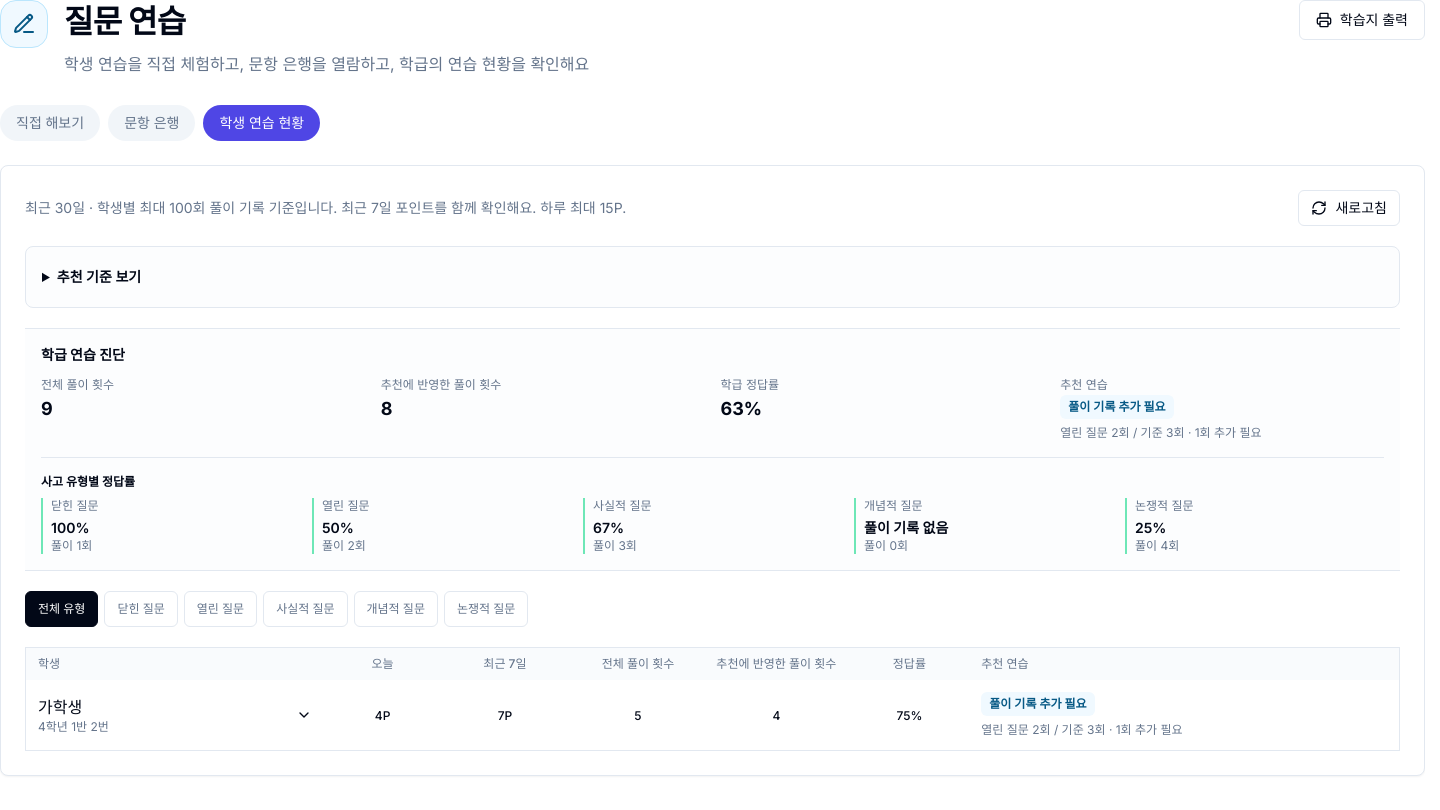
교사 학급 연습 진단 › 학생 모드별 진단에서 시도 수와 포인트 성공 횟수를 따로 보여 준다
Click the button "가학생 4학년 1반 2번" at (60, 707), box [38, 693, 312, 737]
(page scrolled)
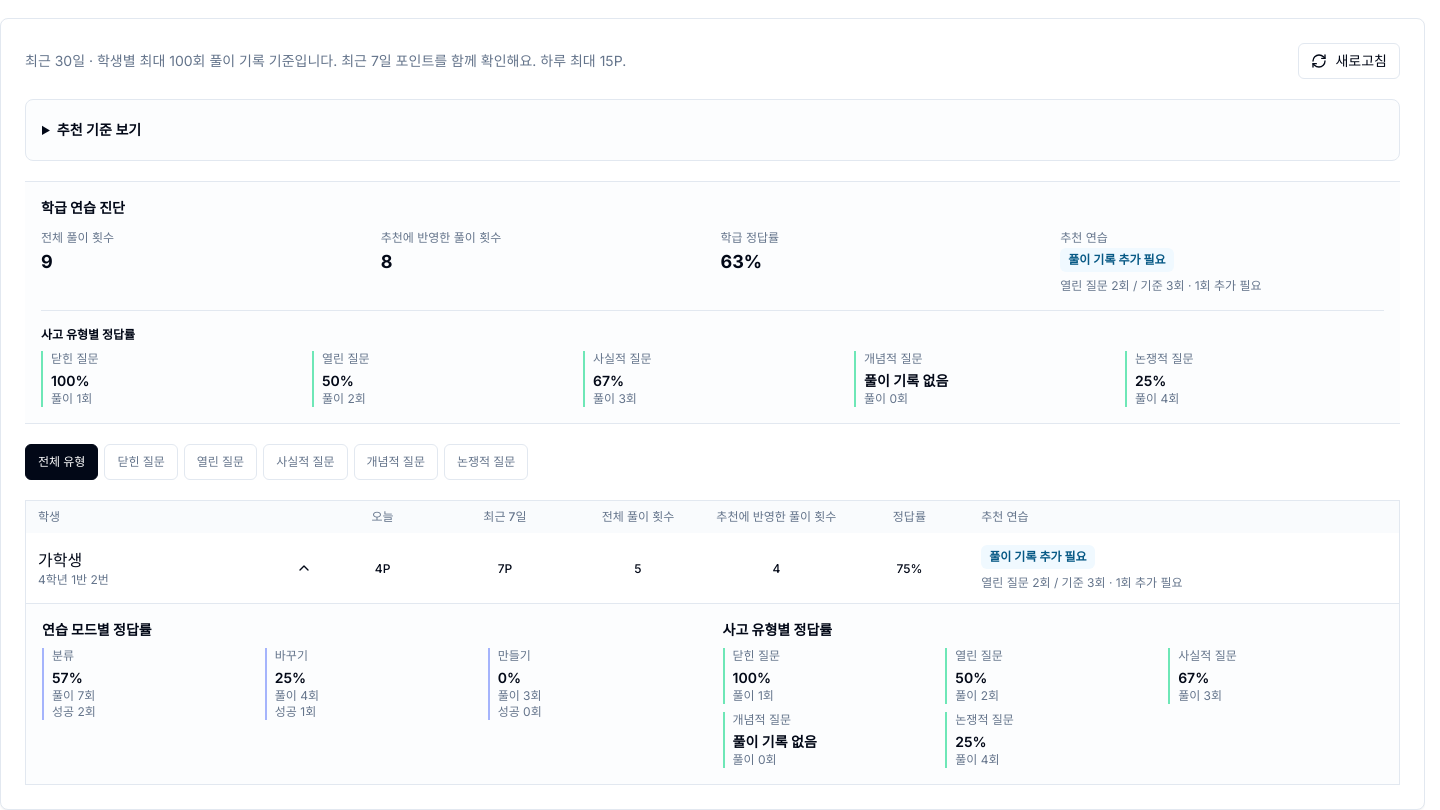
Expected: the element "연습 모드별 정답률" is shown, [42, 620, 702, 768]
Expected: the text "분류" is shown, [52, 648, 74, 663]
Expected: the text "57%" is shown, [52, 669, 83, 686]
